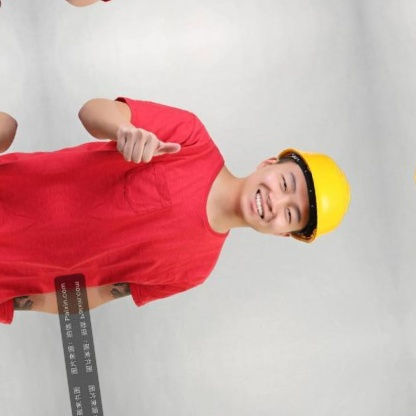yellow: (275, 142, 362, 259)
